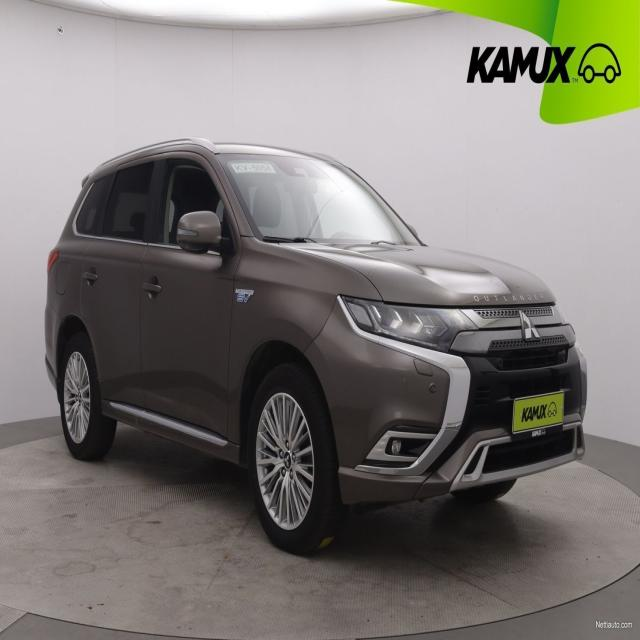light_vehicle: (44, 138, 588, 556)
